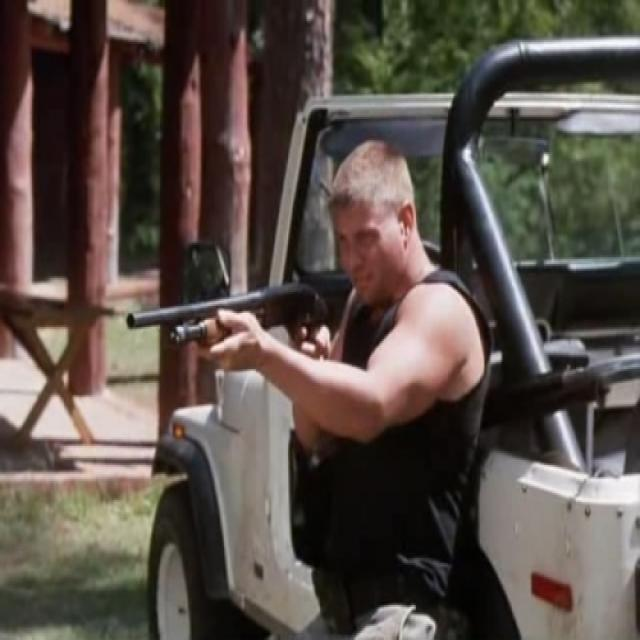rifle: (122, 277, 341, 344)
